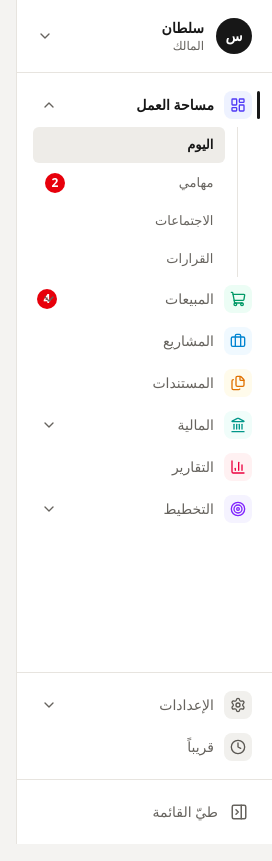
it: Sidebar › shows live badges: on the section while closed, on the page when open
Expected: the link "المبيعات 4" is shown, [29,279,260,319]
Click the button named "فتح المبيعات".
click(49, 299)  # box [33,283,65,315]
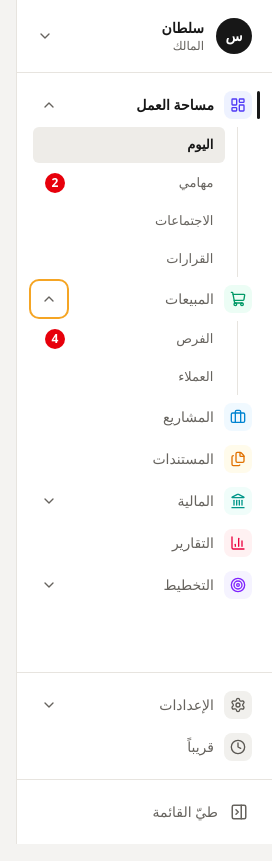
Expected: the link "الفرص 4" is shown, [45,329,213,349]
